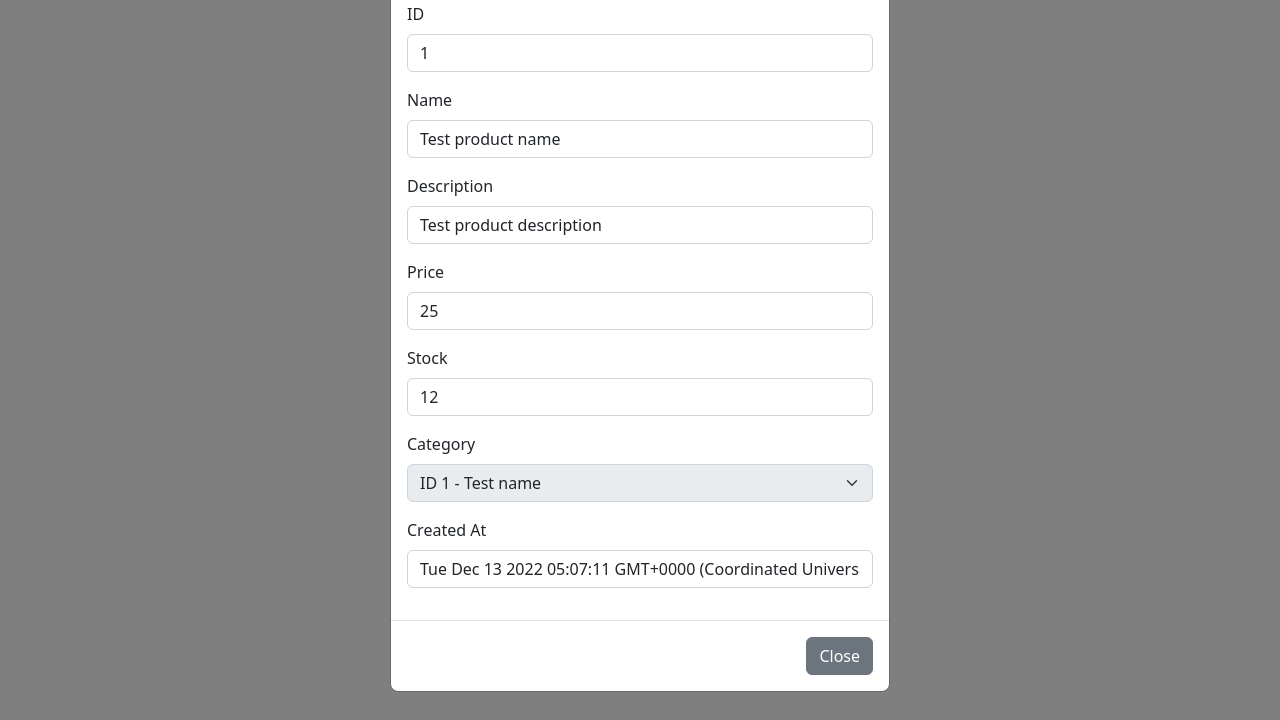
Test: renders SingleProductPage component › with data
(page scrolled)
Click the button "Close".
click(840, 656)  # box [806,637,873,675]
(page scrolled)
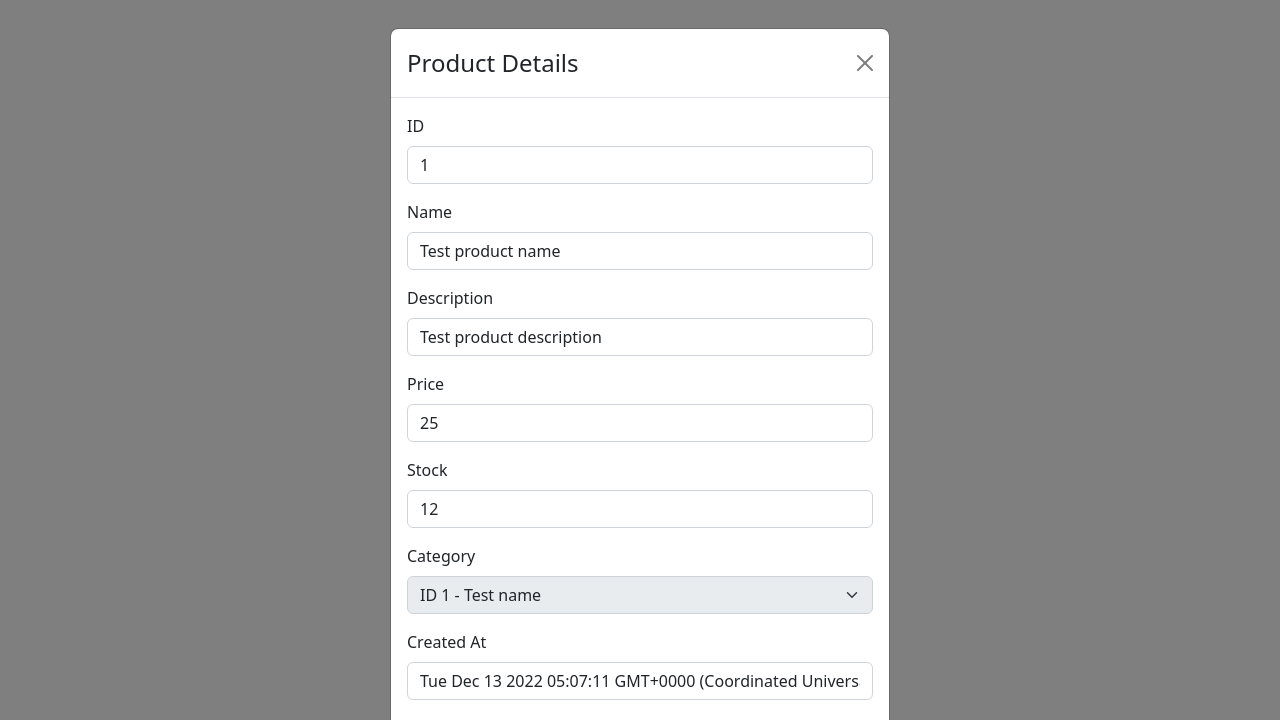
expect the text "Product Details" is shown: met, box [407,45,579,81]
